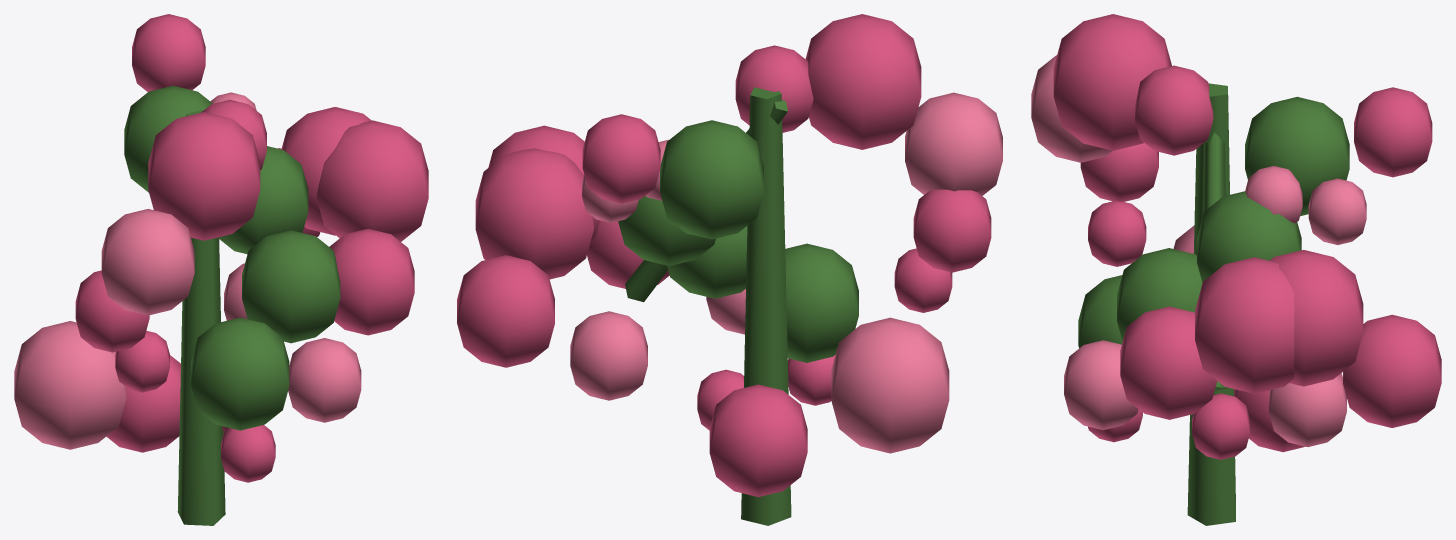
The model's file is bougainvillea.glb.
The picture shows the model from 3 angles, left to right: view 1: azimuth 30°, elevation 25°; view 2: azimuth 150°, elevation 25°; view 3: azimuth 270°, elevation 25°; orthographic projection. The views are drawn at different scales.
Visible parts, largest first — view 1: Bougainvillea; view 2: Bougainvillea; view 3: Bougainvillea.
Boxes of the visible parts, x1,y1,x2,y2 form: Bougainvillea: (14,14,428,525); Bougainvillea: (457,14,1002,525); Bougainvillea: (1031,14,1441,525).
Bounding box in the file's own units: 1.56 × 1.55 × 1.22.
